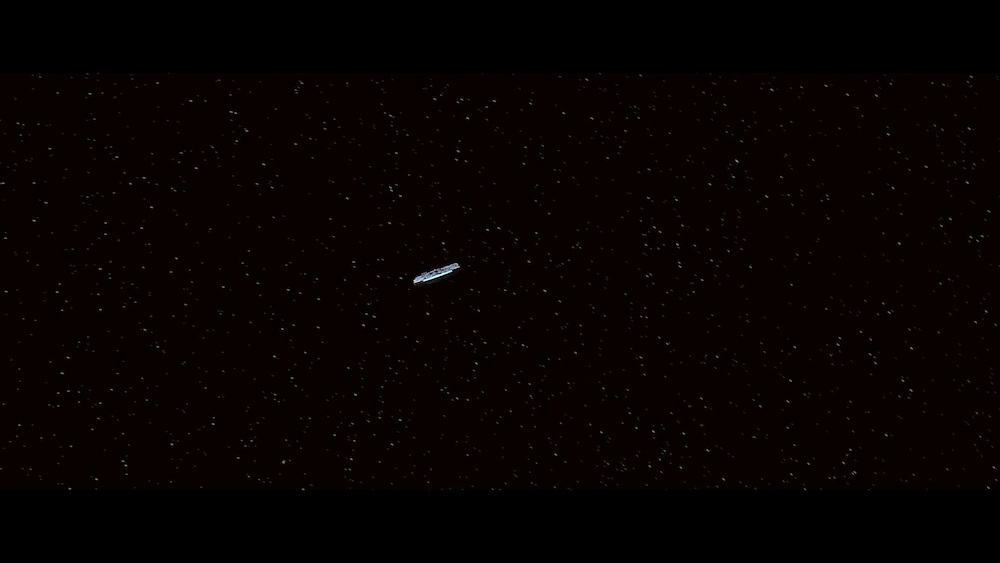Millennium Falcon: (414, 264, 461, 288)
